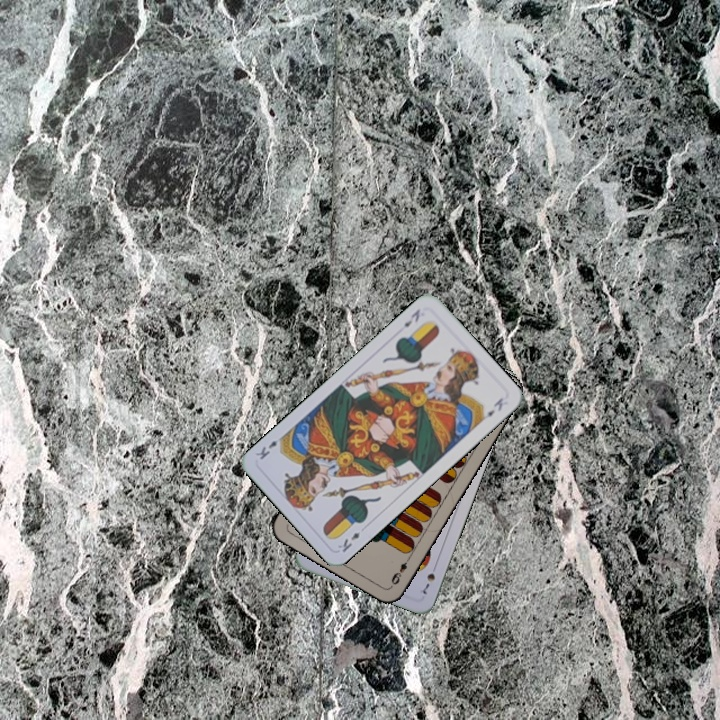E9: (387, 552, 414, 587)
EK: (333, 528, 363, 555), (400, 305, 423, 330)
S7: (418, 560, 440, 597)
